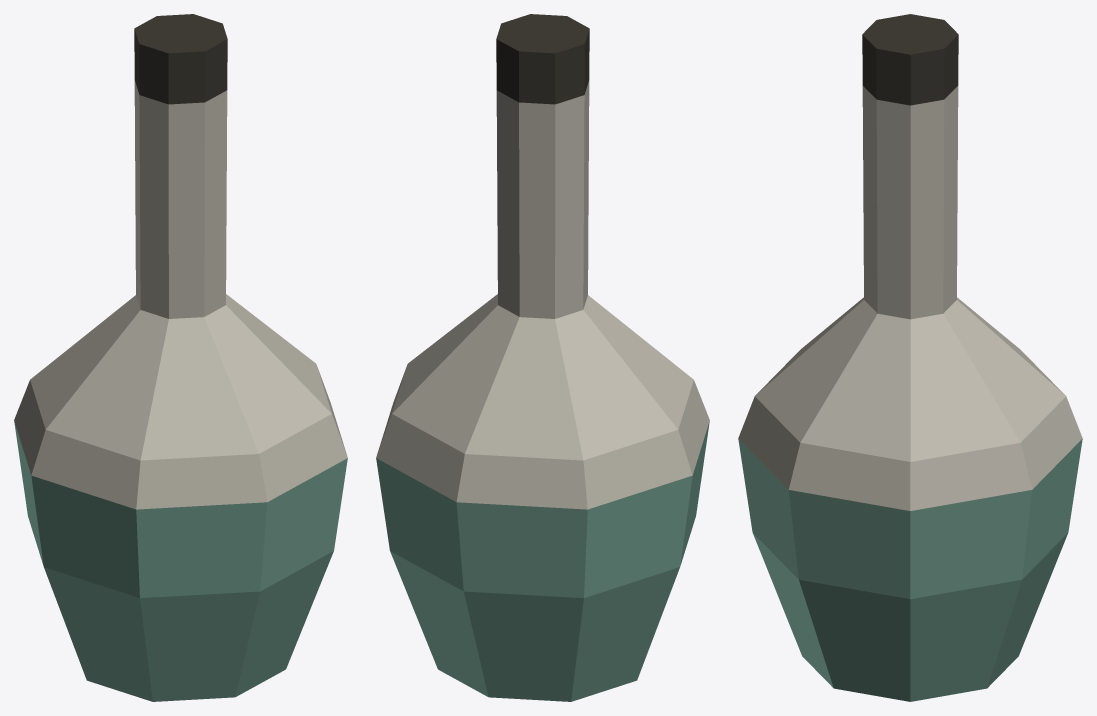
The model's file is bottle(2).fbx.
The picture shows the model from 3 angles, left to right: view 1: azimuth 30°, elevation 25°; view 2: azimuth 150°, elevation 25°; view 3: azimuth 270°, elevation 25°; orthographic projection.
Parts seen in each view (by area): view 1: bottle(2); view 2: bottle(2); view 3: bottle(2).
Part boxes in pixels (x1=…): bottle(2): x1=14, y1=14, x2=347, y2=701; bottle(2): x1=376, y1=14, x2=709, y2=701; bottle(2): x1=738, y1=14, x2=1082, y2=701.
Size of the model in its own units: 32.35 by 64.43 by 32.35.
